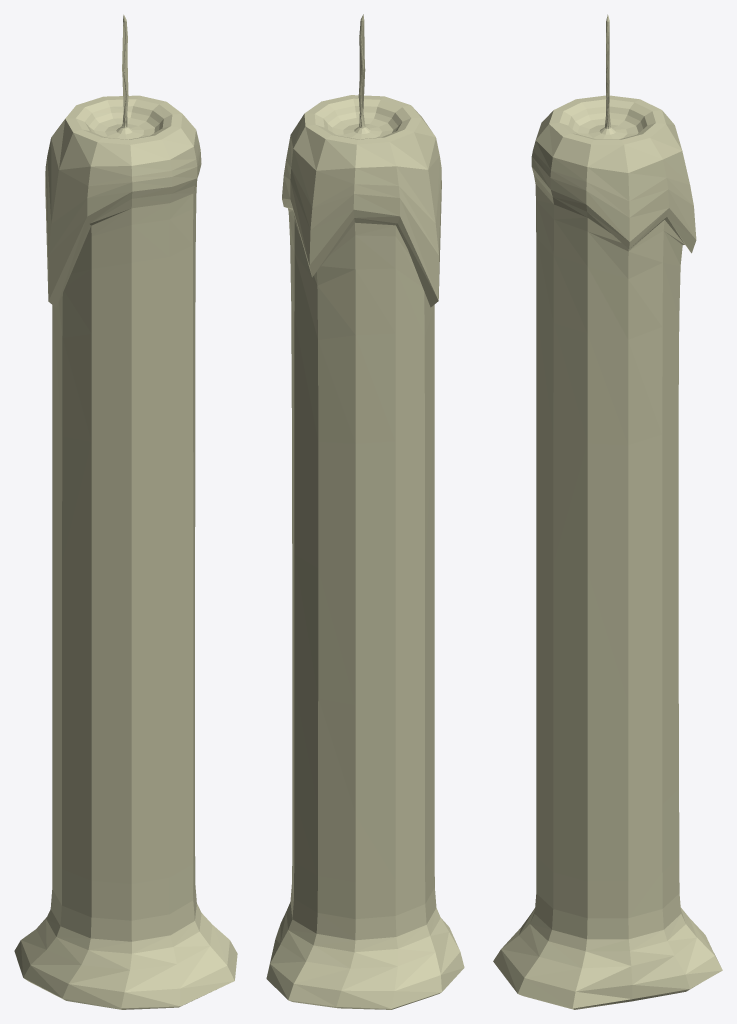
Rendered from candle01.fbx.
The picture shows the model from 3 angles, left to right: view 1: azimuth 30°, elevation 25°; view 2: azimuth 150°, elevation 25°; view 3: azimuth 270°, elevation 25°; orthographic projection.
Parts seen in each view (by area): view 1: pCylinder1; view 2: pCylinder1; view 3: pCylinder1.
Part boxes in pixels (left/top/right/bottom): pCylinder1: left=14, top=14, right=237, bottom=1009; pCylinder1: left=266, top=14, right=464, bottom=1009; pCylinder1: left=493, top=14, right=722, bottom=1009.
Bounding box in the file's own units: 1.92 × 9.43 × 2.06.
